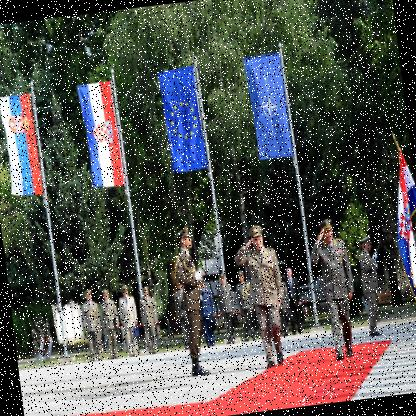rs: (1, 93, 44, 200)
